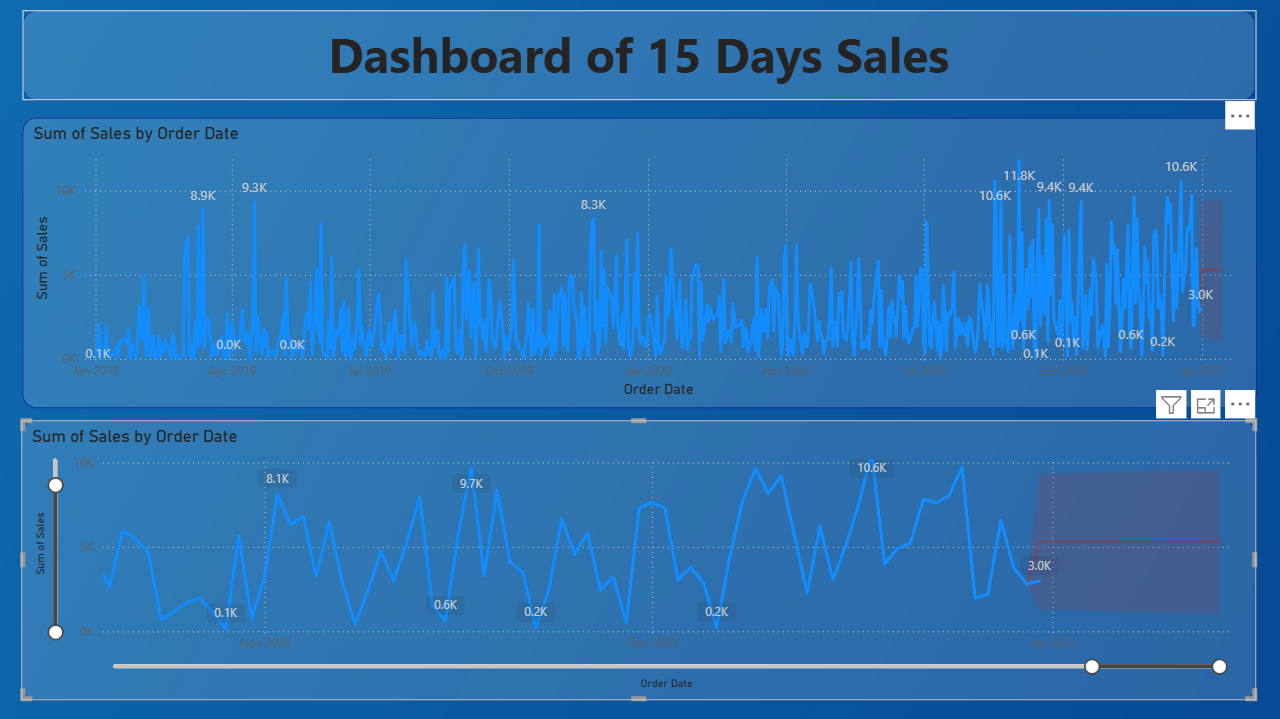

The dashboard page shown, as its layout file describes it:
{"tool":"powerbi","page":{"name":"Forecasating","canvas":[1280,720],"ordinal":1},"visuals":[{"type":"lineChart","fields":{"Y":["Sum(SuperStore_Sales_Dataset.Sales)"],"Category":["SuperStore_Sales_Dataset.Order Date"]},"box":[22.9,118.2,1234.2,290.8],"z":0},{"type":"lineChart","fields":{"Y":["Sum(SuperStore_Sales_Dataset.Sales)"],"Category":["SuperStore_Sales_Dataset.Order Date"]},"box":[21.7,421,1234.2,279.9],"z":1000},{"type":"textbox","box":[22.9,10.9,1233,90.5],"z":2000}]}

Visuals, with their boxes in screenshot pixels (x1, y1, x2, y2), scaled from the page's 1280x720 canvas onto the 1280x719 screenshot:
lineChart - Sum(SuperStore_Sales_Dataset.Sales) x SuperStore_Sales_Dataset.Order Date: (23, 118, 1257, 408)
lineChart - Sum(SuperStore_Sales_Dataset.Sales) x SuperStore_Sales_Dataset.Order Date: (22, 420, 1256, 700)
textbox: (23, 11, 1256, 101)
